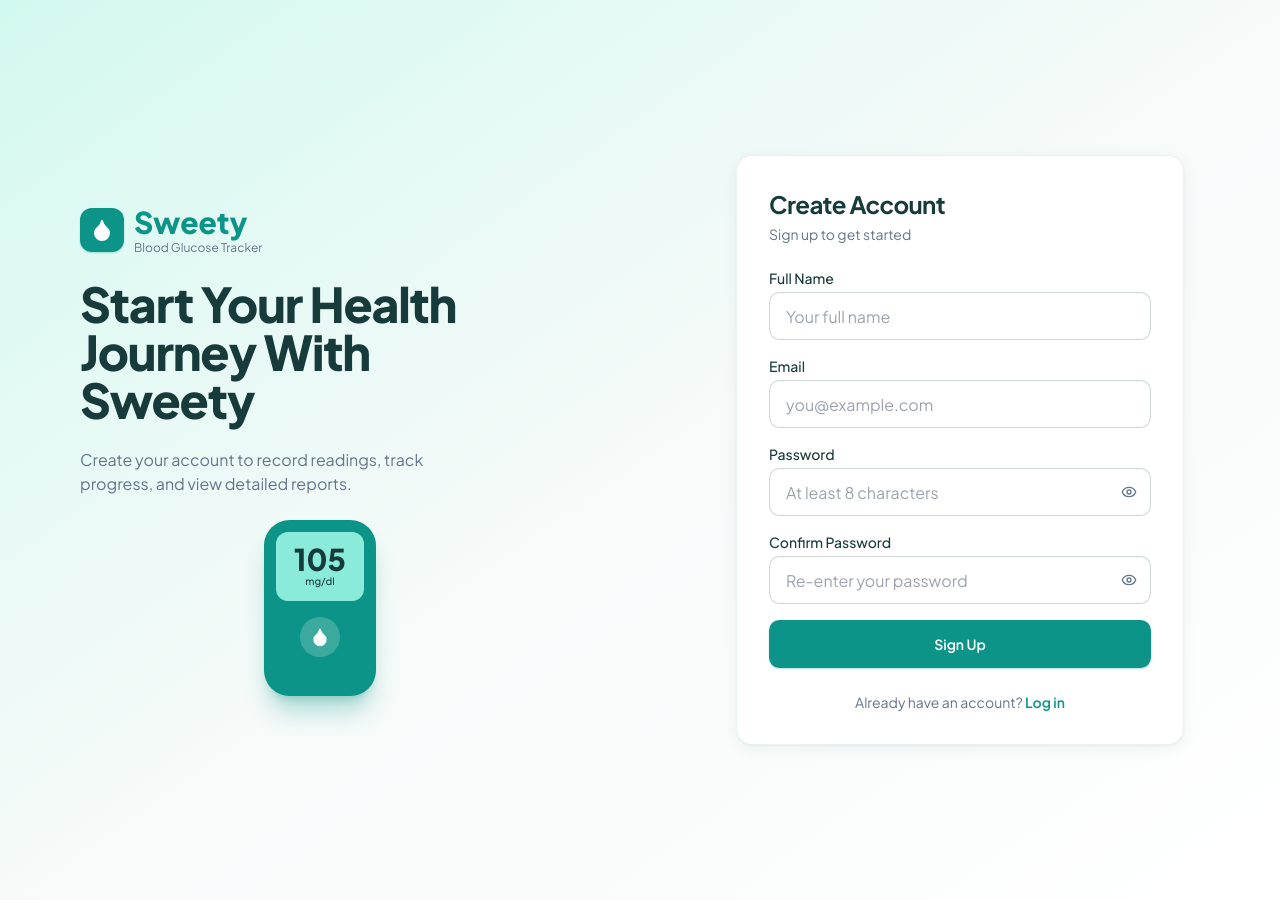
Test: Register page › shows the duplicate-email error from the server
Type "Asha Rao" into the field labelled "Full Name" at {"x": 960, "y": 316}, box [769,292,1151,340]
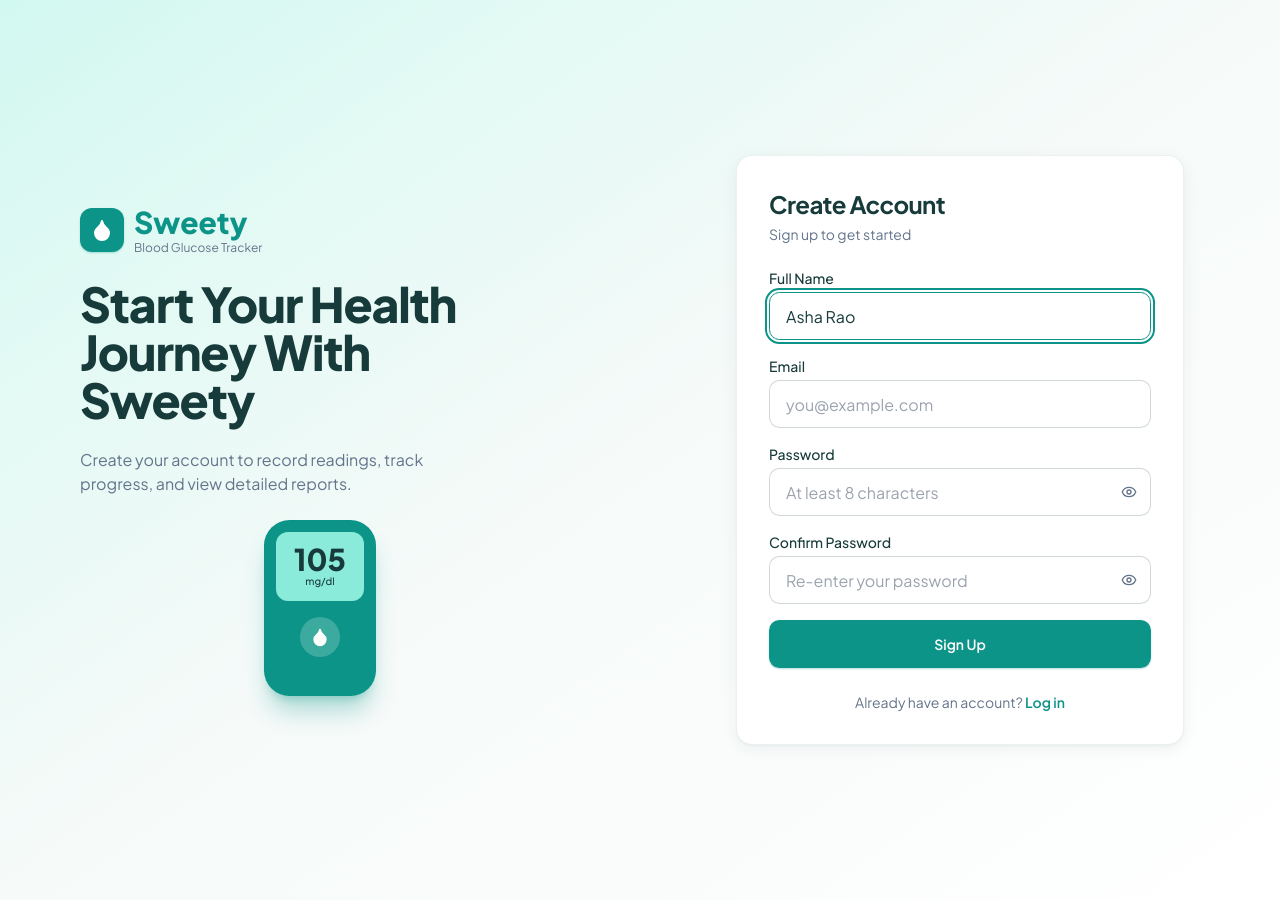
Type "asha@example.com" into the field labelled "Email" at {"x": 960, "y": 404}, box [769,380,1151,428]
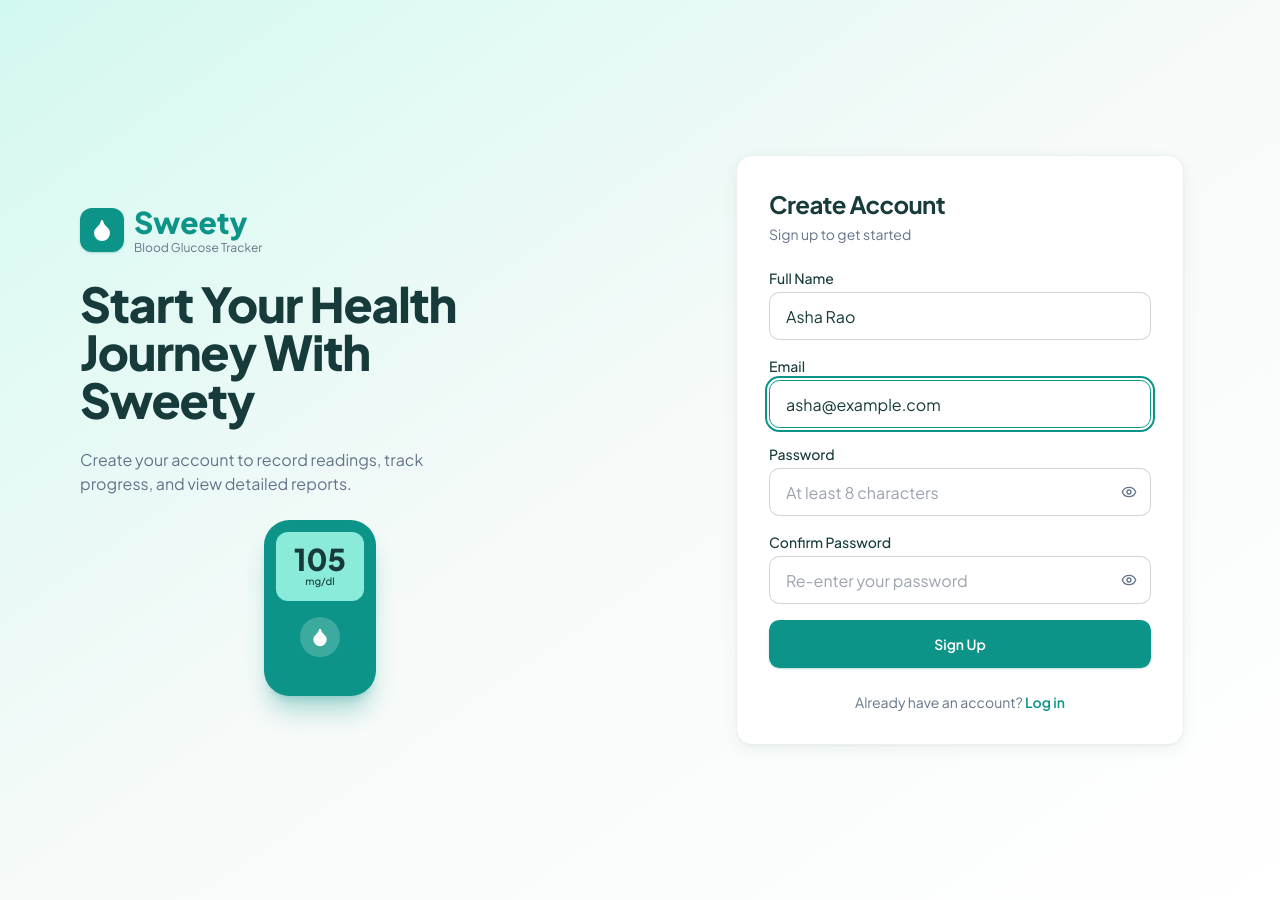
Type "StrongPass1" into the password field labelled "Password" at {"x": 960, "y": 492}, box [769,468,1151,516]
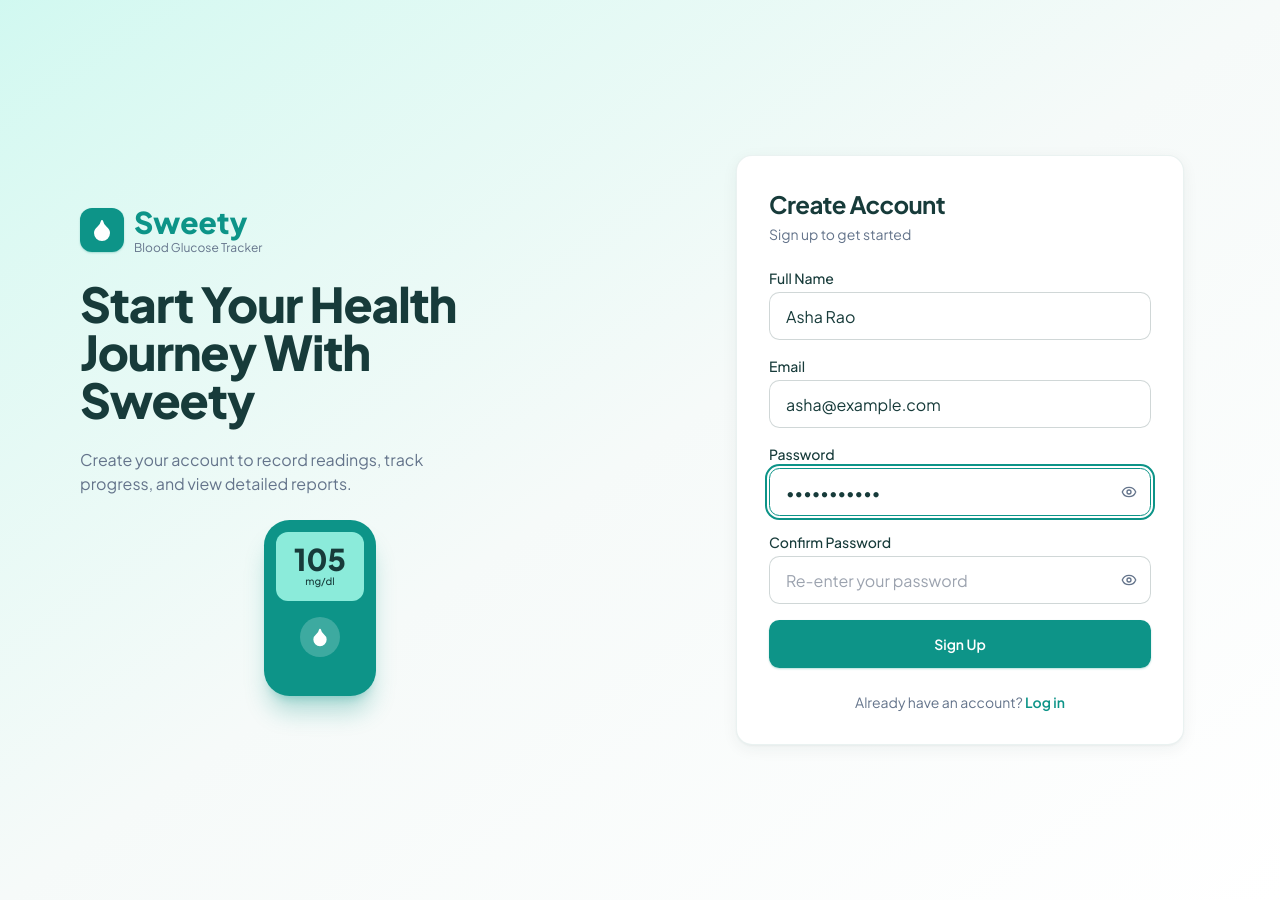
Type "StrongPass1" into the password field labelled "Confirm Password" at {"x": 960, "y": 580}, box [769,556,1151,604]
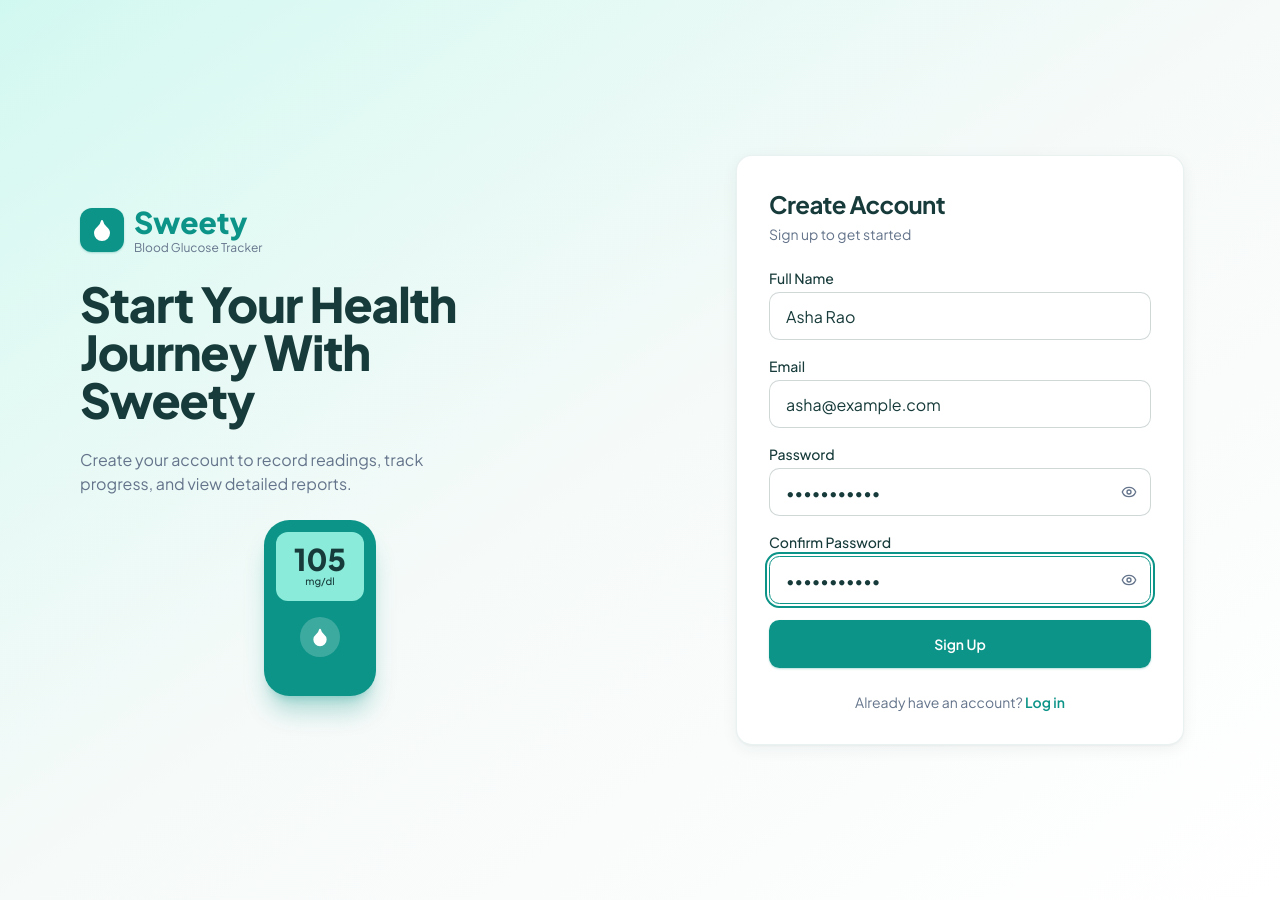
Click the button "Sign Up" at {"x": 960, "y": 644}, box [769,620,1151,668]
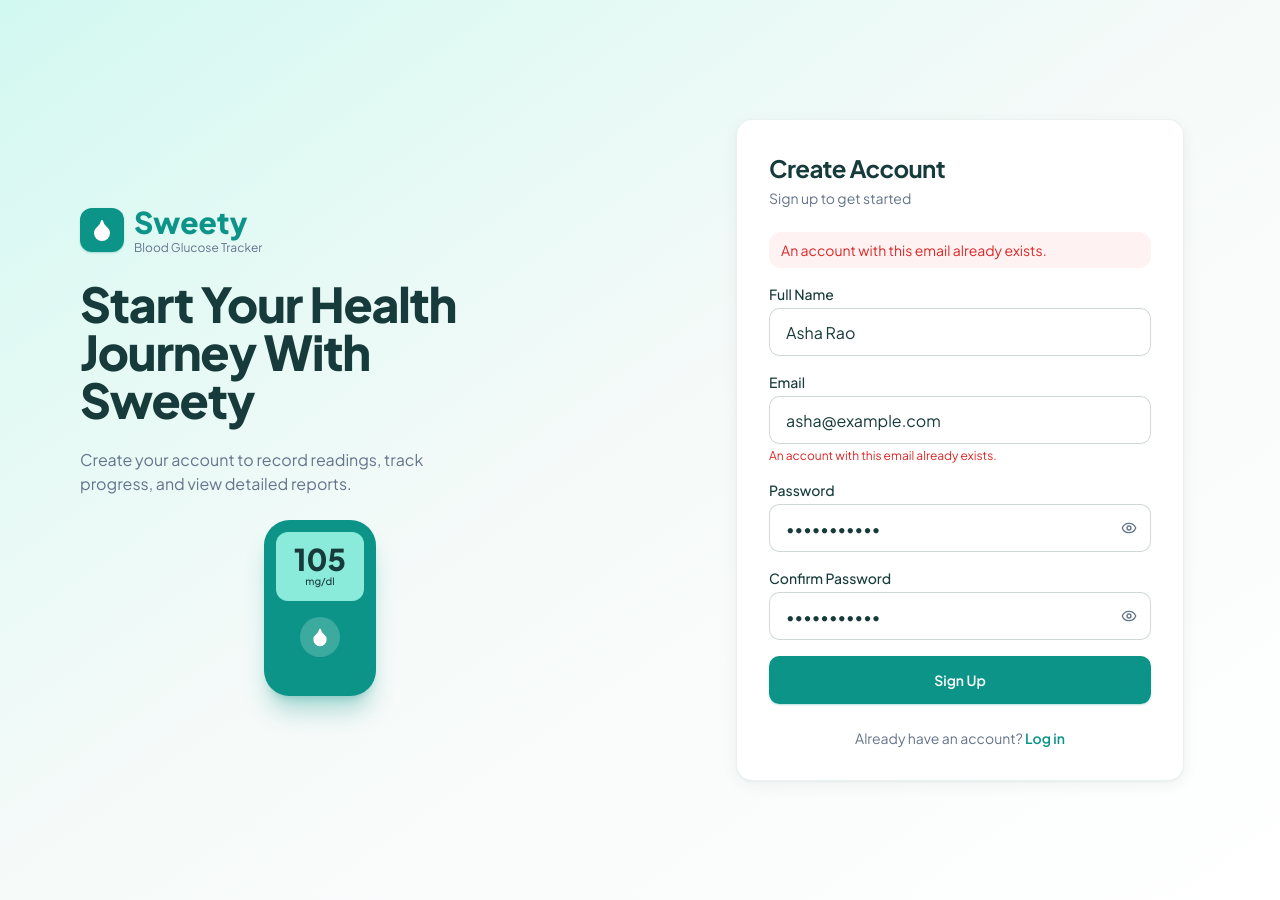
Expected: the 1st text "An account with this email already exists." is shown, [769,232,1151,268]
